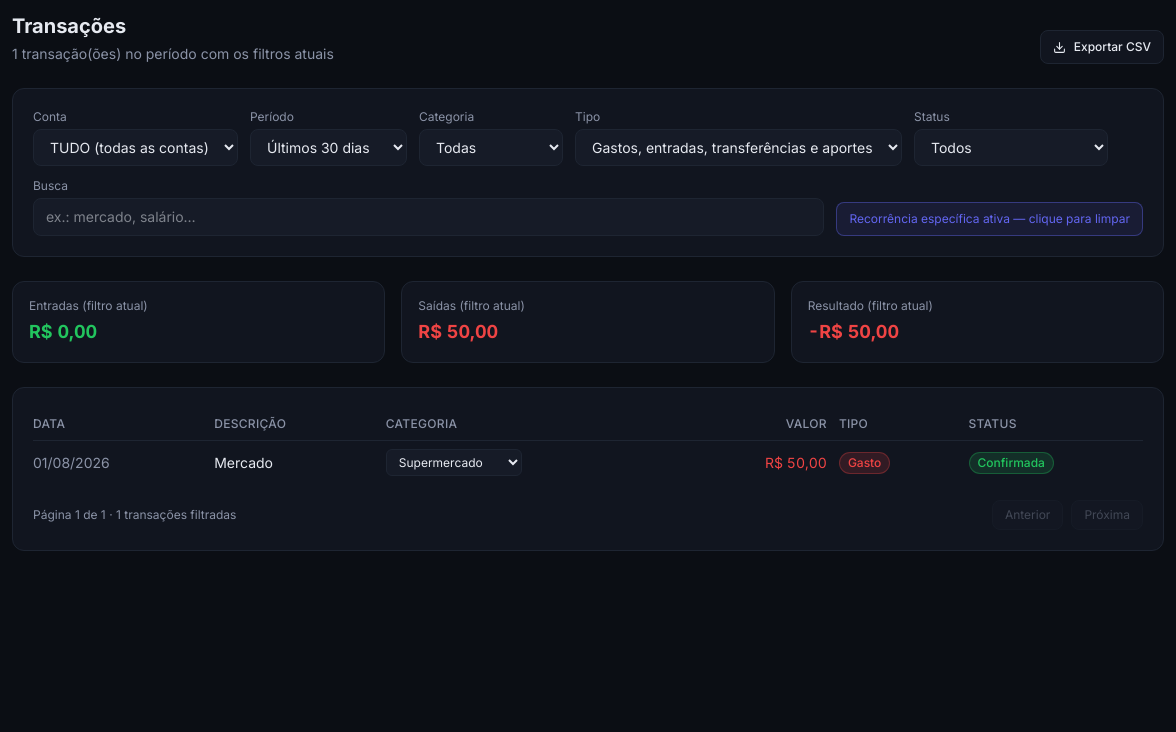
Scenario: TransactionsPage › AC-008: chip de recorrência usa desc_norm e pode ser limpo
Click the button "Recorrência específica ativa — clique para limpar". click: (990, 219)
box: [836,202,1143,236]
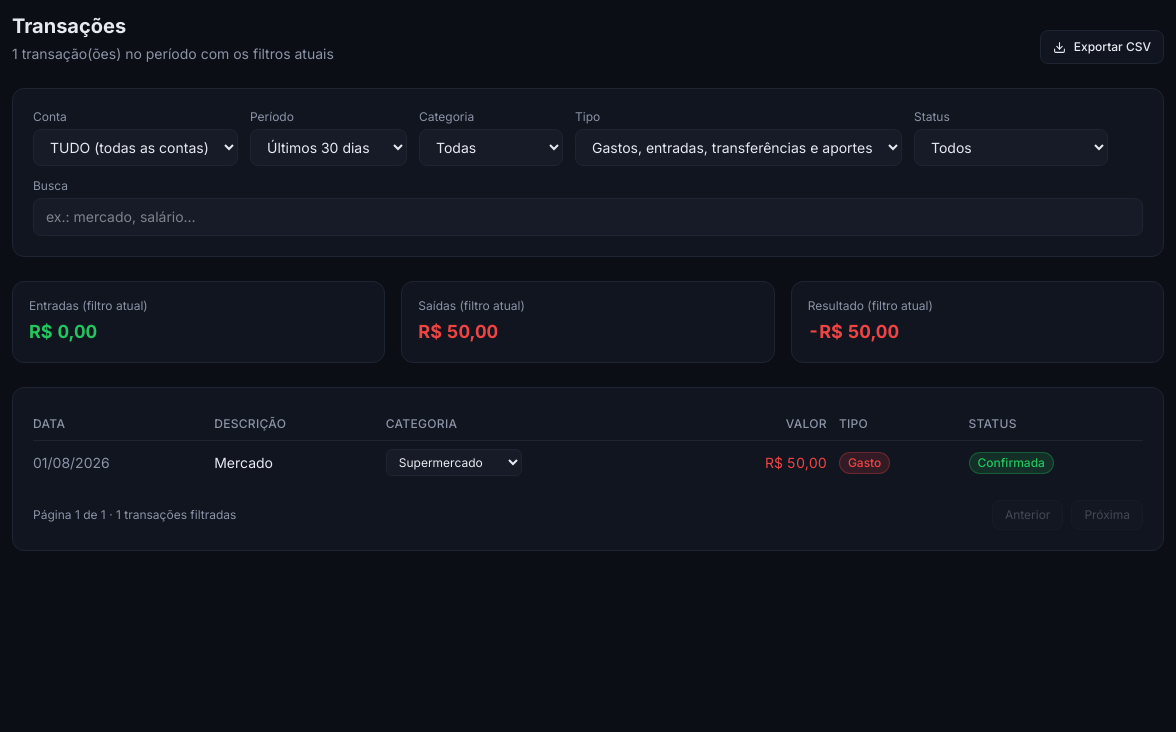
Now the button "Recorrência específica ativa — clique para limpar" is gone
